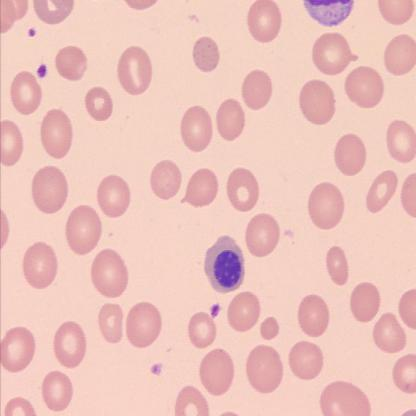NRC: (204, 233, 245, 294)
